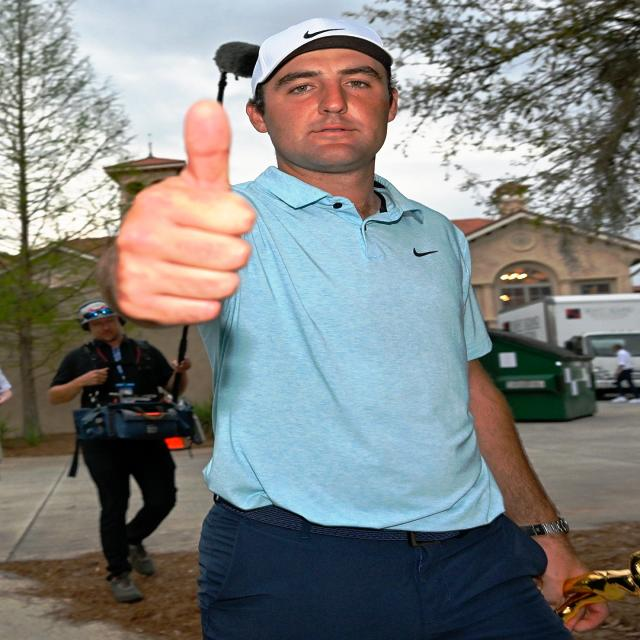thumbs_up: (109, 97, 261, 334)
